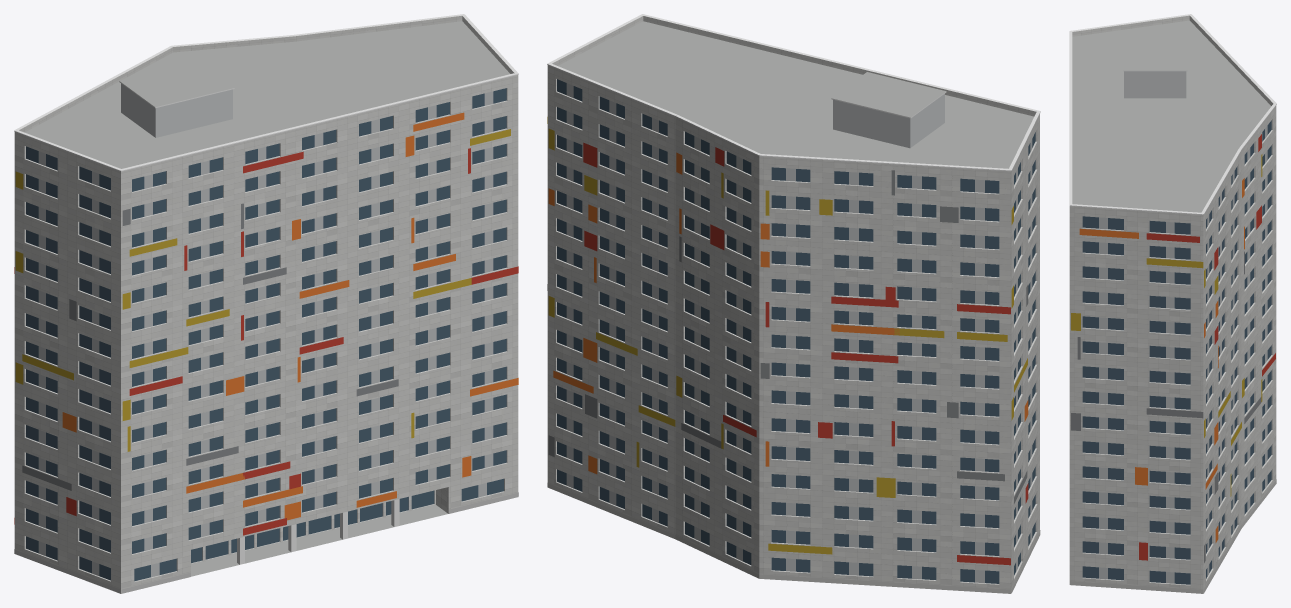
The picture shows the model from 3 angles, left to right: view 1: azimuth 30°, elevation 25°; view 2: azimuth 150°, elevation 25°; view 3: azimuth 270°, elevation 25°; orthographic projection. The views are drawn at different scales.
Parts seen in each view (by area): view 1: blueMirEast__wall, blueMirEast__glass, blueMirEast__roof, blueMirEast__frame, blueMirEast__parapet, blueMirEast__accentA, blueMirEast__wall2, blueMirEast__accentB, blueMirEast__trim, blueMirEast__accentC, blueMirEast__accentD, blueMirEast__base (+1 smaller); view 2: blueMirEast__wall, blueMirEast__glass, blueMirEast__roof, blueMirEast__frame, blueMirEast__parapet, blueMirEast__accentB, blueMirEast__accentC, blueMirEast__wall2, blueMirEast__trim, blueMirEast__base, blueMirEast__accentA, blueMirEast__accentD; view 3: blueMirEast__wall, blueMirEast__roof, blueMirEast__glass, blueMirEast__frame, blueMirEast__trim, blueMirEast__parapet, blueMirEast__wall2, blueMirEast__accentB, blueMirEast__accentA, blueMirEast__base, blueMirEast__accentC, blueMirEast__accentD.
Boxes of the visible parts, x1,y1,x2,y2 form: blueMirEast__wall: [14, 79, 518, 593]; blueMirEast__glass: [26, 88, 506, 581]; blueMirEast__roof: [25, 21, 509, 576]; blueMirEast__frame: [38, 91, 493, 577]; blueMirEast__parapet: [14, 16, 518, 175]; blueMirEast__accentA: [62, 112, 518, 520]; blueMirEast__wall2: [121, 83, 232, 137]; blueMirEast__accentB: [15, 129, 510, 451]; blueMirEast__trim: [14, 14, 518, 171]; blueMirEast__accentC: [14, 148, 518, 535]; blueMirEast__accentD: [22, 203, 398, 490]; blueMirEast__base: [14, 492, 518, 593]; blueMirEast__wall: [547, 69, 1039, 593]; blueMirEast__glass: [557, 79, 1035, 583]; blueMirEast__roof: [558, 21, 1033, 168]; blueMirEast__frame: [566, 83, 1032, 583]; blueMirEast__parapet: [547, 16, 1039, 175]; blueMirEast__accentB: [547, 117, 1027, 554]; blueMirEast__accentC: [583, 142, 1028, 565]; blueMirEast__wall2: [833, 94, 944, 148]; blueMirEast__trim: [547, 14, 1040, 171]; blueMirEast__base: [547, 483, 1040, 593]; blueMirEast__accentA: [548, 152, 1028, 474]; blueMirEast__accentD: [547, 170, 1028, 503]; blueMirEast__wall: [1069, 109, 1276, 593]; blueMirEast__roof: [1072, 20, 1271, 212]; blueMirEast__glass: [1082, 120, 1271, 584]; blueMirEast__frame: [1099, 125, 1267, 583]; blueMirEast__trim: [1069, 14, 1276, 214]; blueMirEast__parapet: [1069, 15, 1276, 218]; blueMirEast__wall2: [1124, 71, 1186, 98]; blueMirEast__accentB: [1071, 154, 1262, 496]; blueMirEast__accentA: [1079, 178, 1244, 542]; blueMirEast__base: [1069, 479, 1276, 593]; blueMirEast__accentC: [1139, 134, 1275, 560]; blueMirEast__accentD: [1071, 251, 1261, 562].
Size of the model in its own units: 53.25 by 50 by 23.35.
Materials: 14 (2 with a texture image).
